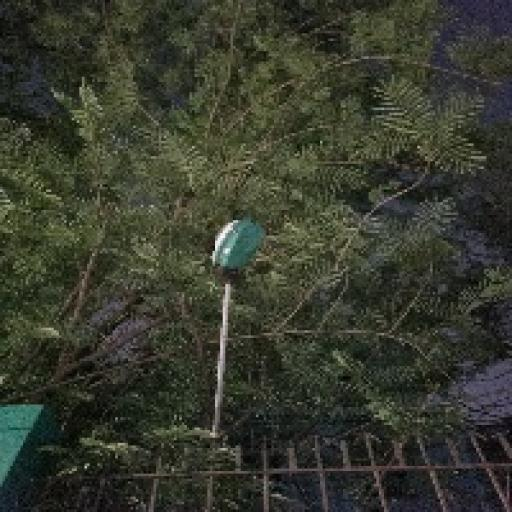Not Working: (205, 212, 267, 280)
